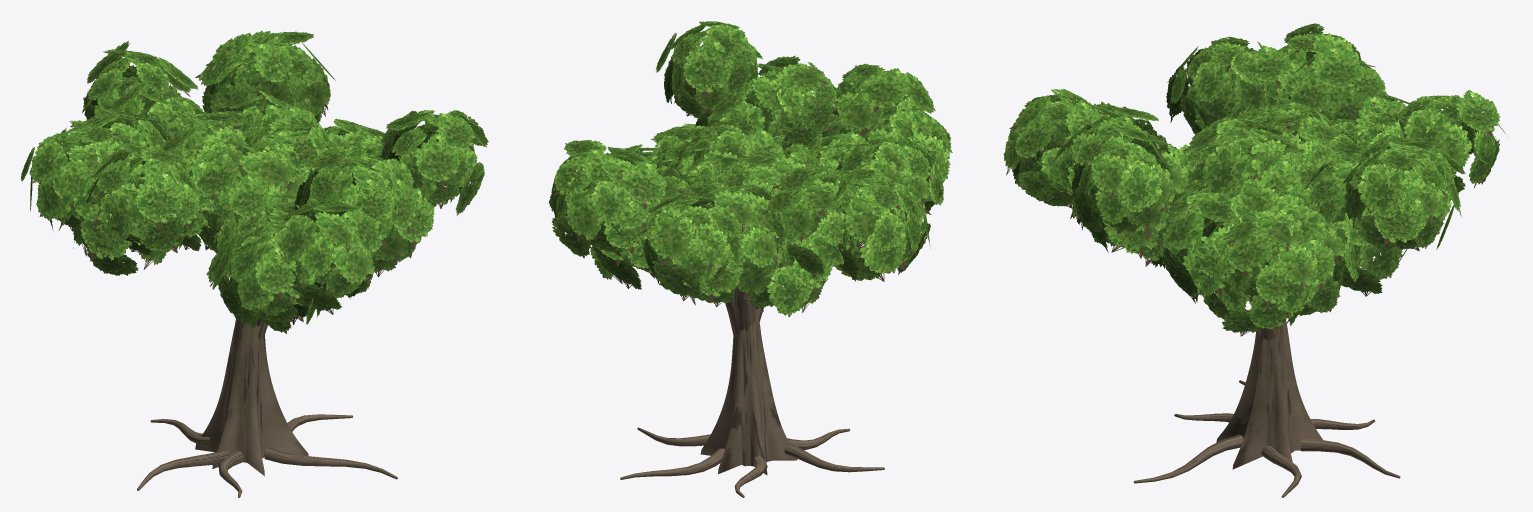
The picture shows the model from 3 angles, left to right: view 1: azimuth 30°, elevation 25°; view 2: azimuth 150°, elevation 25°; view 3: azimuth 270°, elevation 25°; orthographic projection. The views are drawn at different scales.
Visible parts, largest first — view 1: BigTree-forest-d; view 2: BigTree-forest-d; view 3: BigTree-forest-d.
Boxes of the visible parts, x1=… form: BigTree-forest-d: x1=20, y1=30, x2=488, y2=497; BigTree-forest-d: x1=549, y1=21, x2=952, y2=497; BigTree-forest-d: x1=1003, y1=23, x2=1506, y2=497.
Size of the model in its own units: 22.15 by 21 by 26.62.
1 material, 1 textured.
